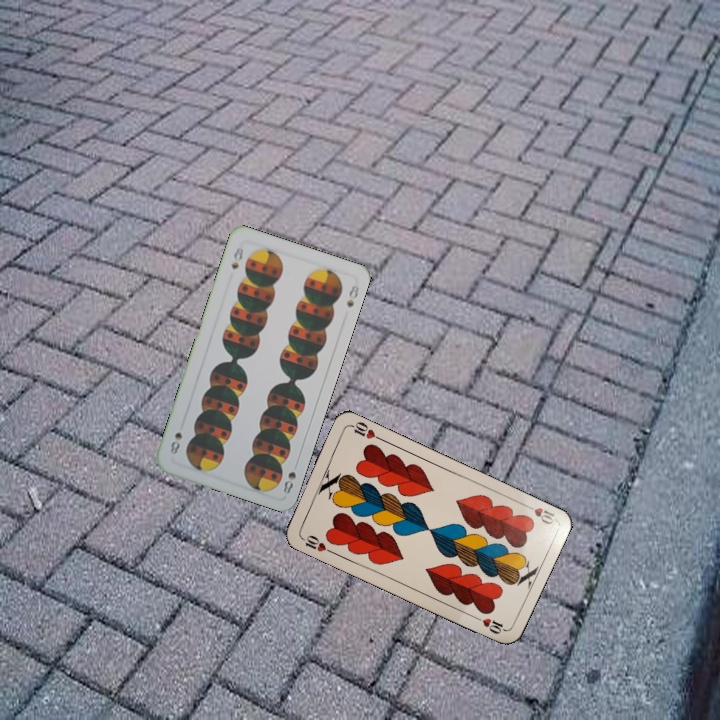H10: (519, 499, 558, 527), (296, 531, 335, 555)
S8: (279, 457, 301, 497), (227, 242, 246, 272)
